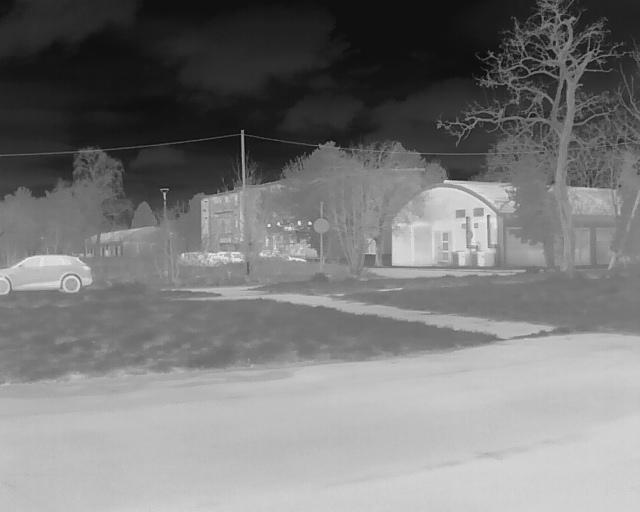drone: (260, 204, 322, 258)
